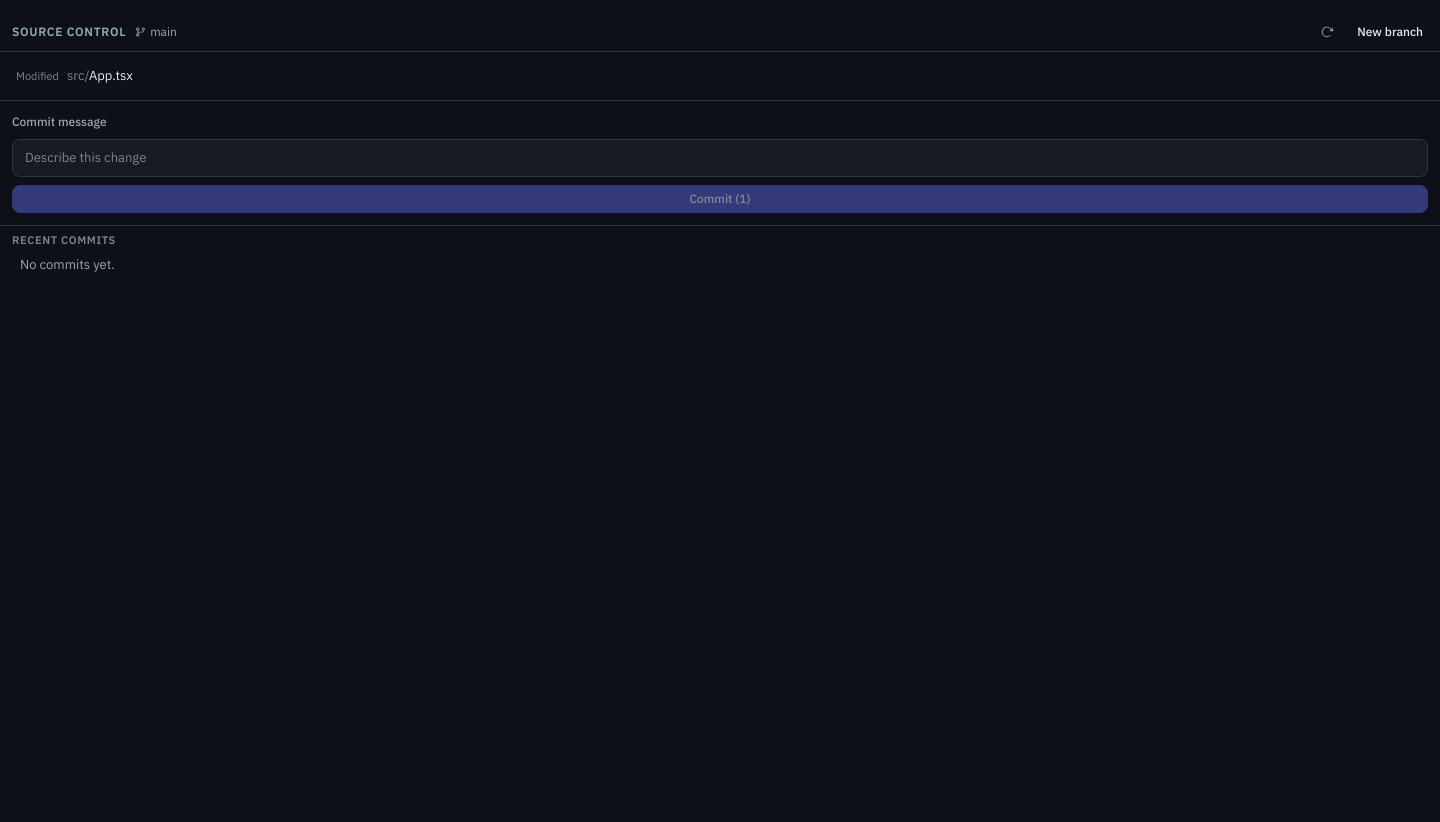
SourceControlPanel › says nothing to commit rather than failing when the tree is clean
Type "tweak the header" into the field labelled "Commit message" at (720, 158), box [12,139,1428,176]
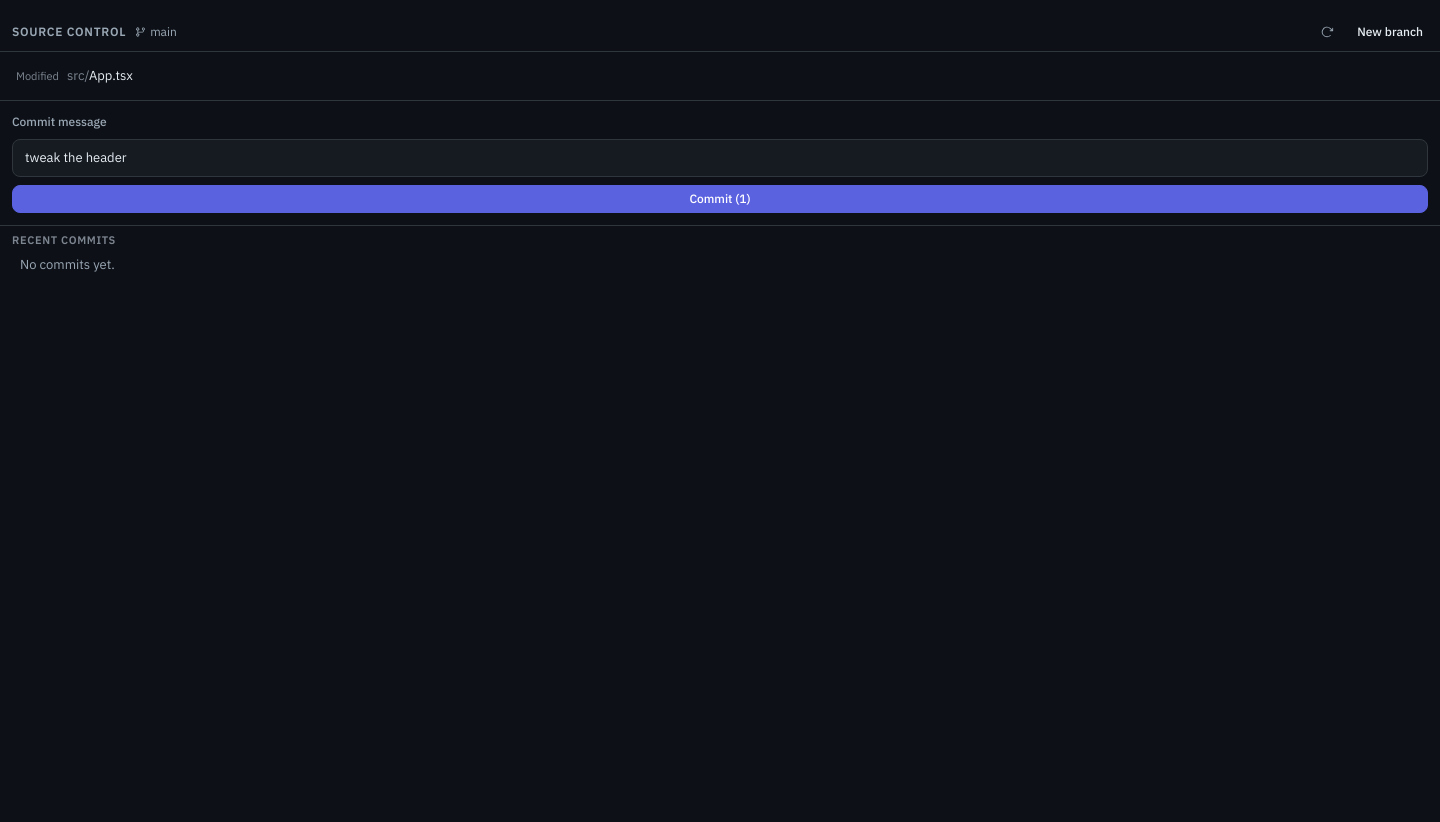
Click the button "Commit (1)" at (720, 198), box [12,184,1428,212]
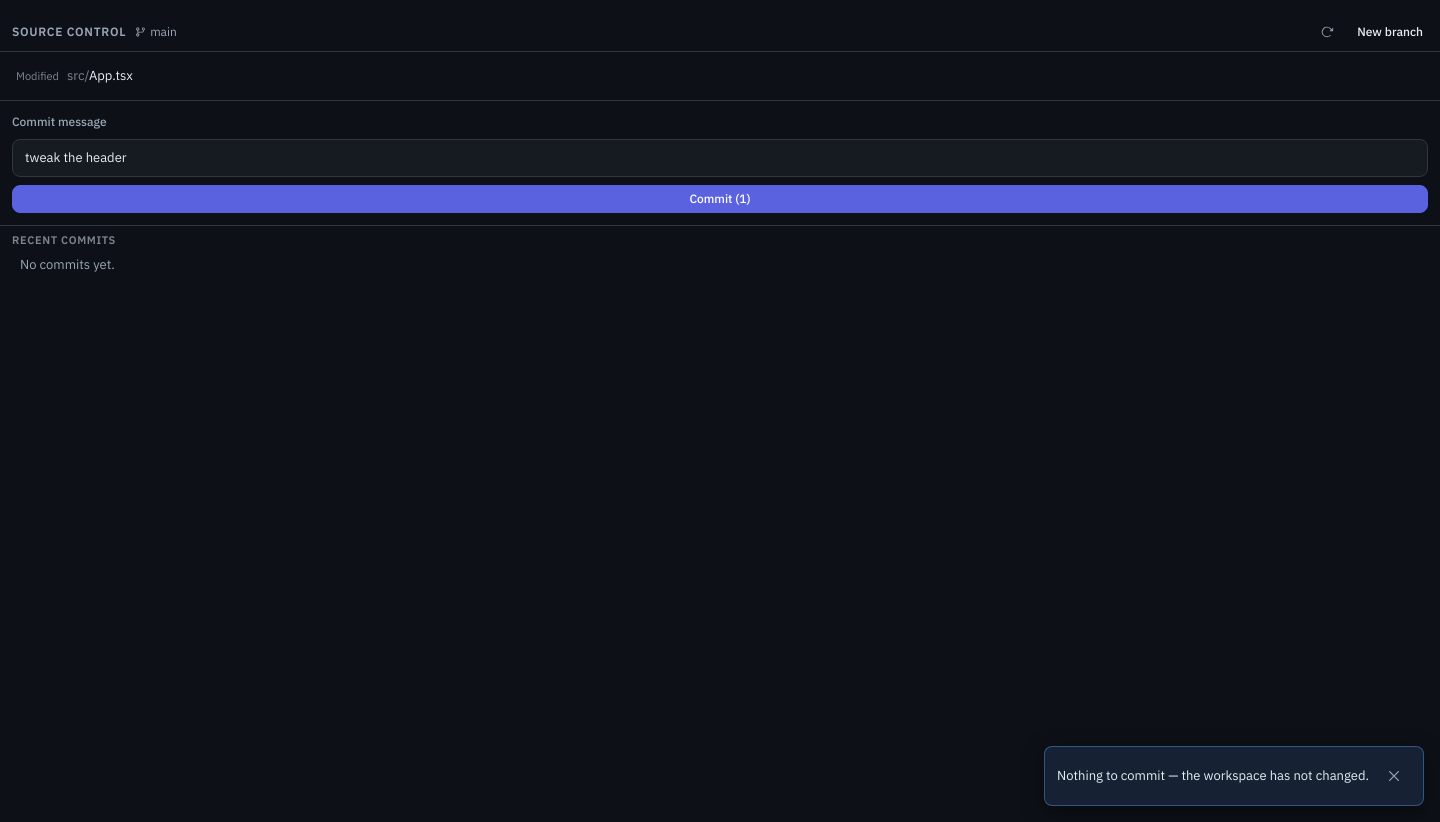
Expected: the text "Nothing to commit — the workspace has not changed." is shown, [1057,766,1369,786]
